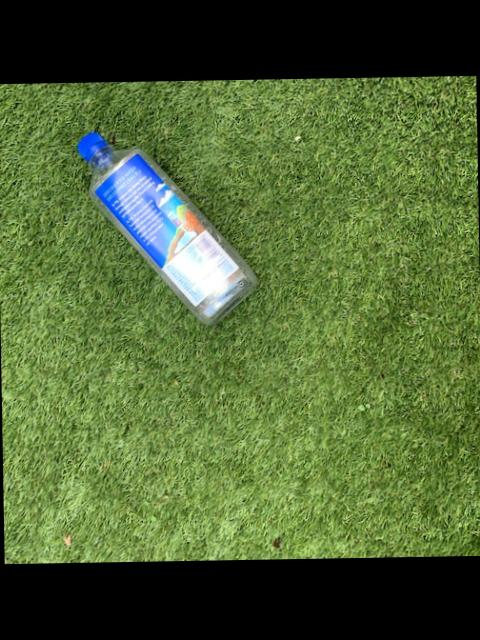plastic: (79, 131, 256, 322)
